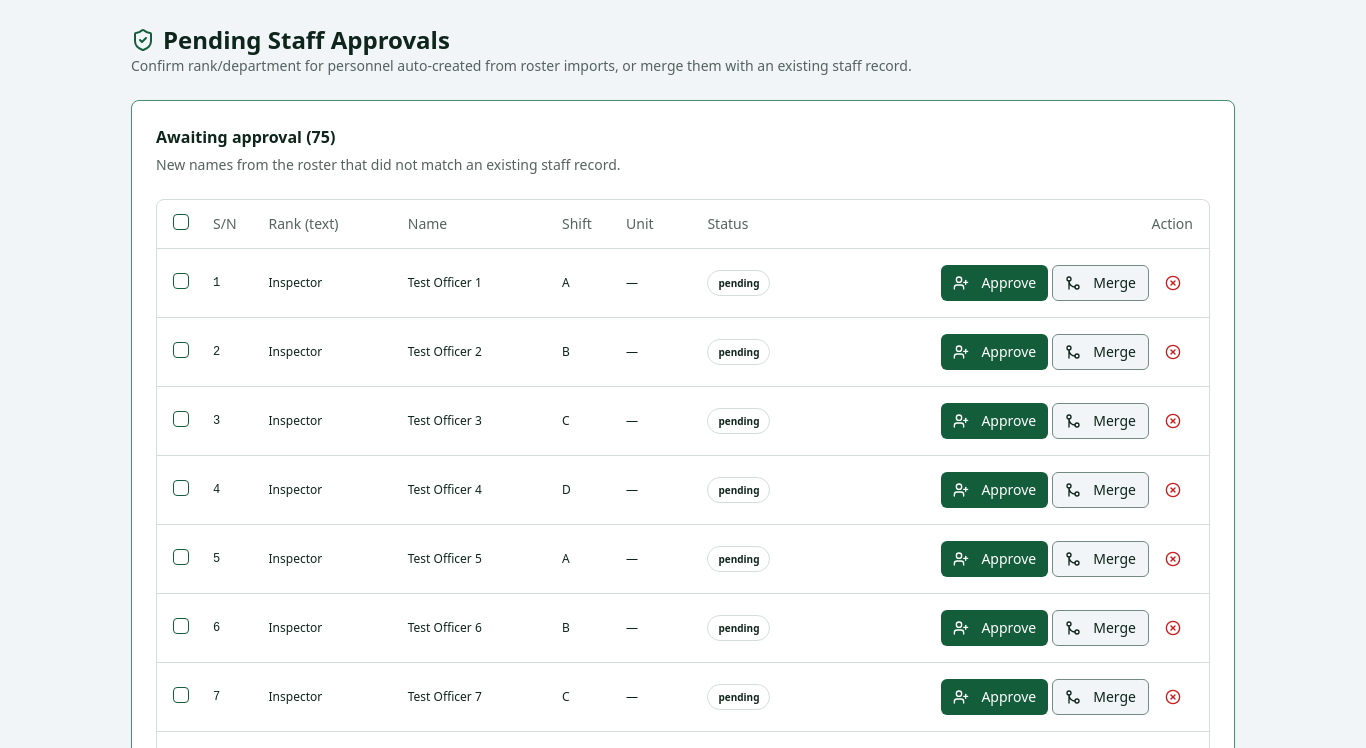
it: PendingStaffApprovals — bulk actions › hides the bulk action bar until at least one row is selected
Expected: the text "Test Officer 1" is shown, top-left (392, 248), bottom-right (546, 317)
Click the checkbox named "select test officer" at (181, 280), box top-left (173, 272), bottom-right (189, 288)
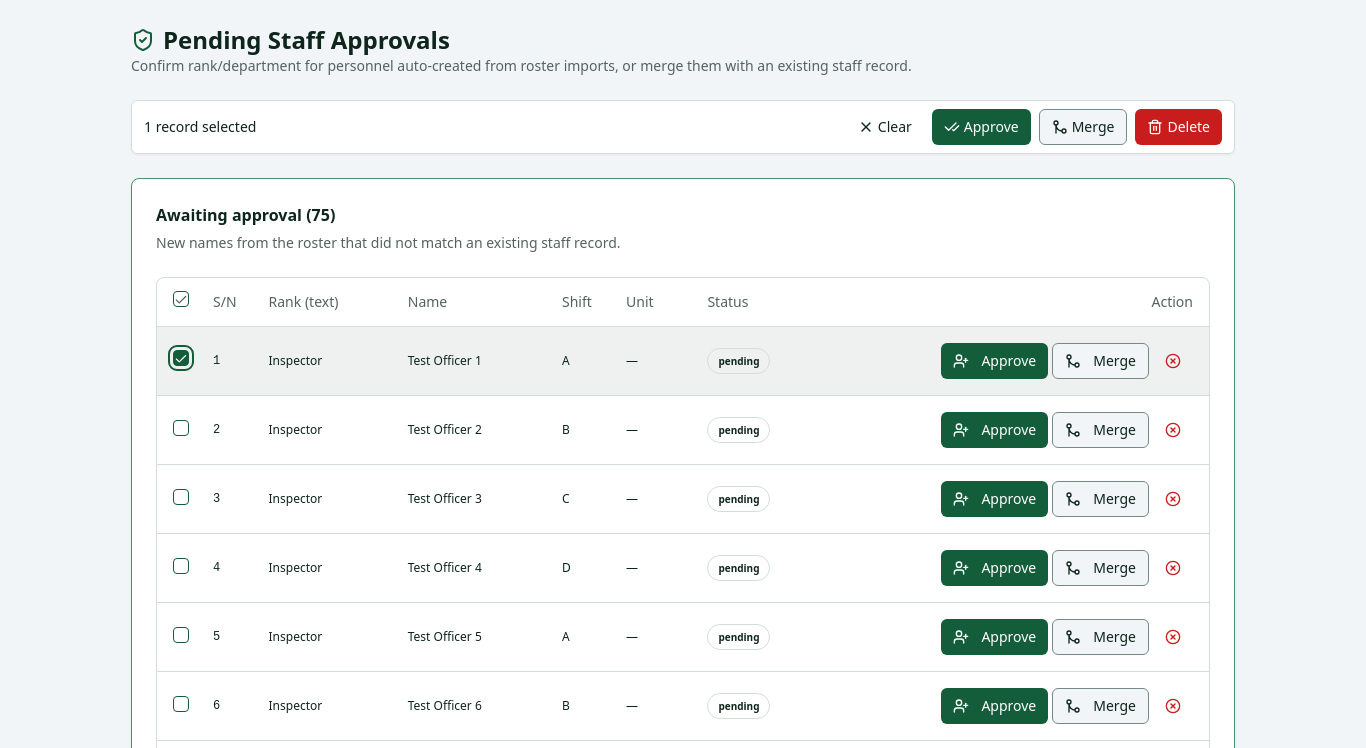
Now the text "1 record selected" is shown, box top-left (144, 117), bottom-right (256, 137)
